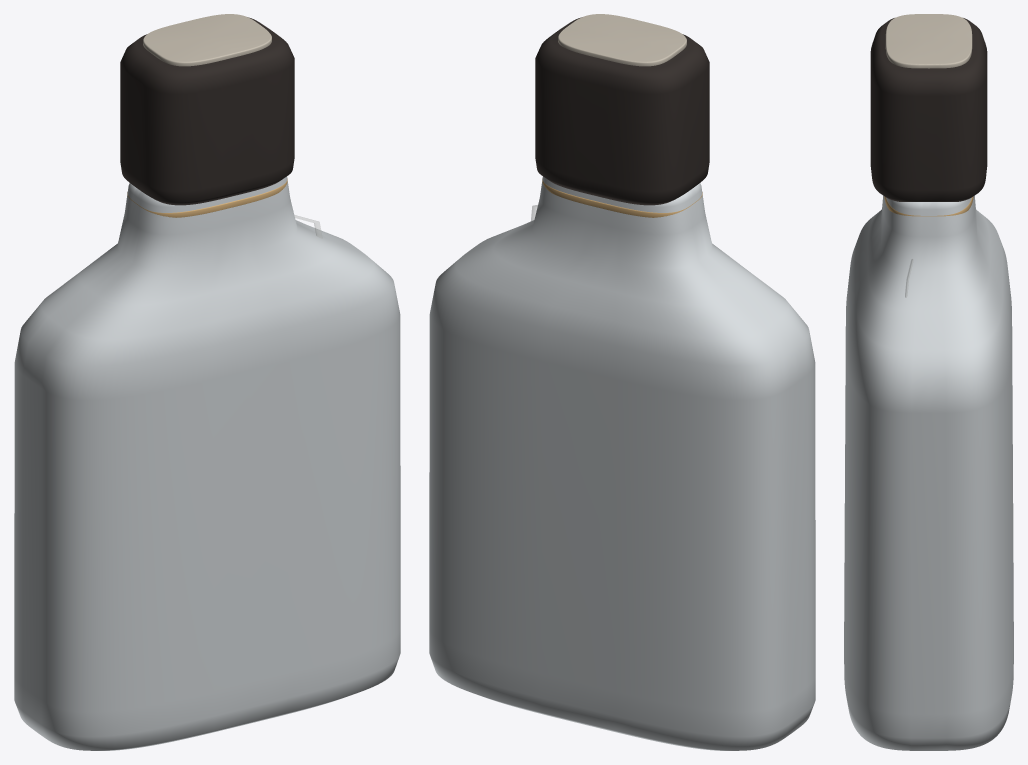
Rendered from amber-noir.glb.
3 views of the same model, side by side, from view 1: azimuth 30°, elevation 25°; view 2: azimuth 150°, elevation 25°; view 3: azimuth 270°, elevation 25° (orthographic). The views are drawn at different scales.
Visible parts, largest first — view 1: BottleGlass, CapShell, CapCrown, NeckGold; view 2: BottleGlass, CapShell, CapCrown, NeckGold; view 3: BottleGlass, CapShell, CapCrown.
Boxes of the visible parts, left/top/right/bottom form: BottleGlass: left=14, top=176, right=400, bottom=750; CapShell: left=120, top=17, right=294, bottom=205; CapCrown: left=143, top=14, right=271, bottom=66; NeckGold: left=127, top=178, right=287, bottom=217; BottleGlass: left=429, top=176, right=815, bottom=750; CapShell: left=535, top=17, right=709, bottom=205; CapCrown: left=558, top=14, right=686, bottom=66; NeckGold: left=542, top=178, right=702, bottom=217; BottleGlass: left=844, top=195, right=1013, bottom=750; CapShell: left=870, top=18, right=987, bottom=201; CapCrown: left=885, top=14, right=972, bottom=68.
Size of the model in its own units: 2.08 by 3.74 by 0.9.
